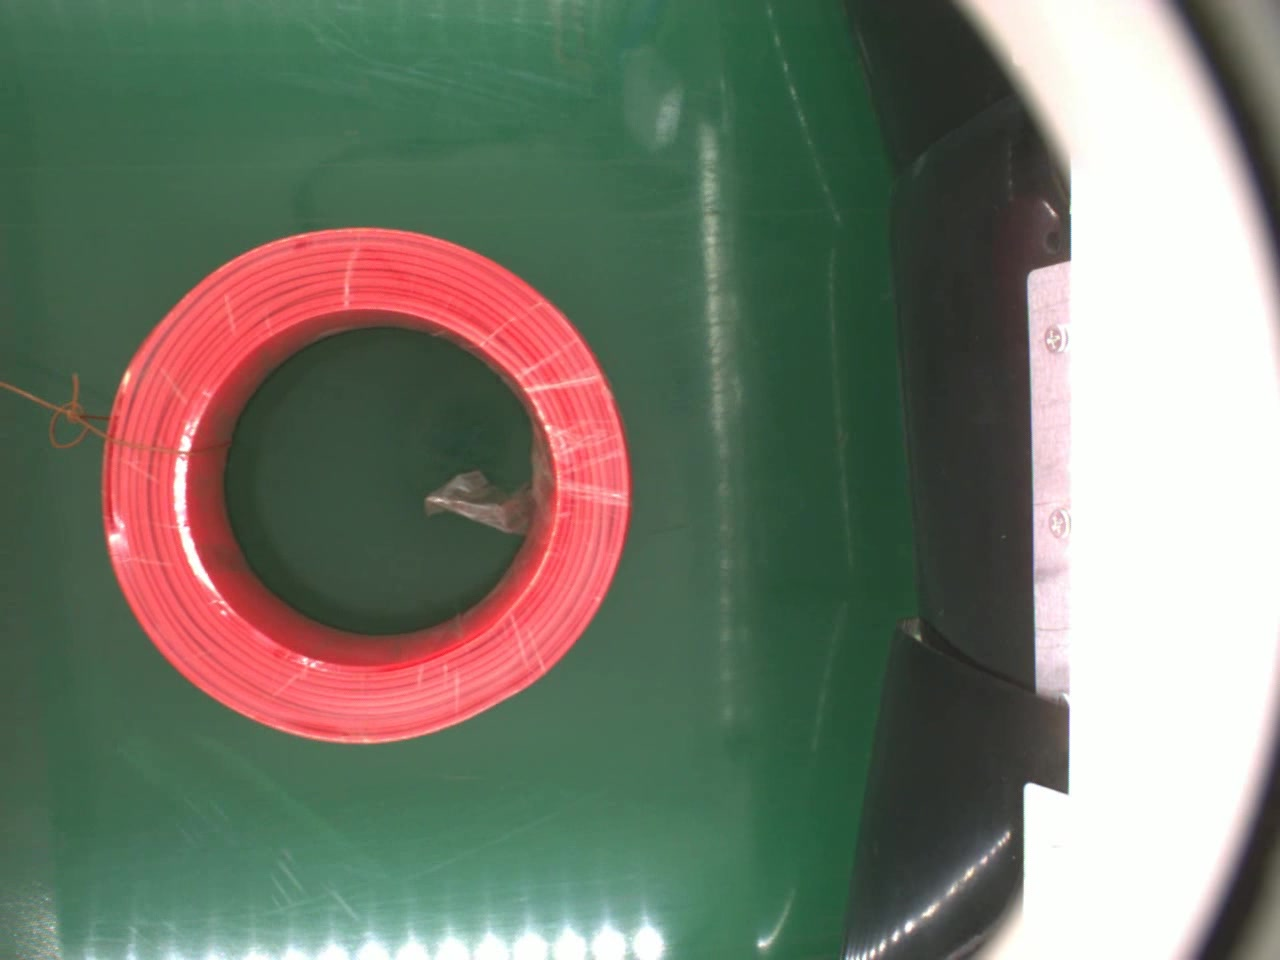red: (98, 220, 634, 748)
